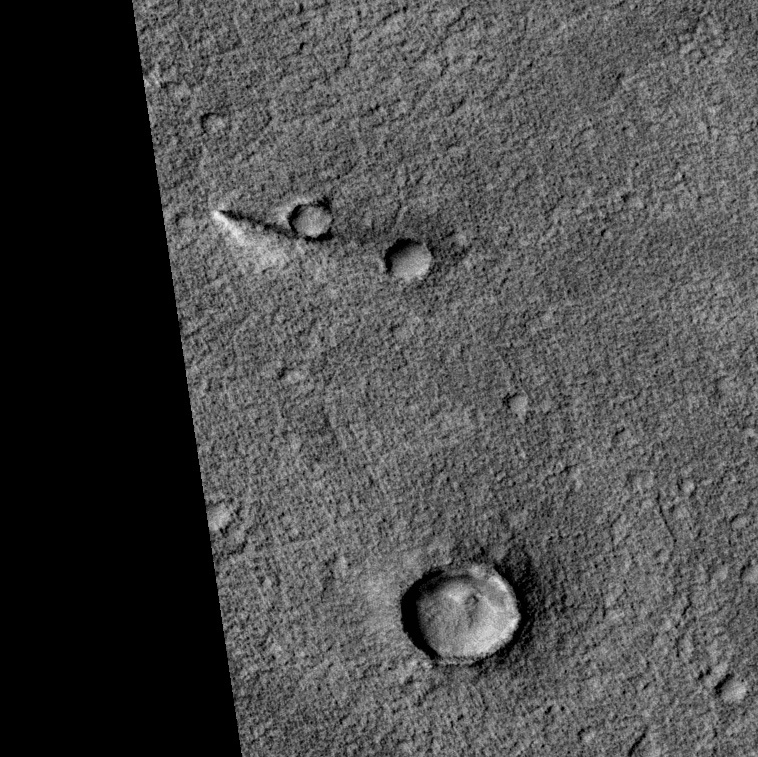dust_devil: (211, 208, 336, 268)
